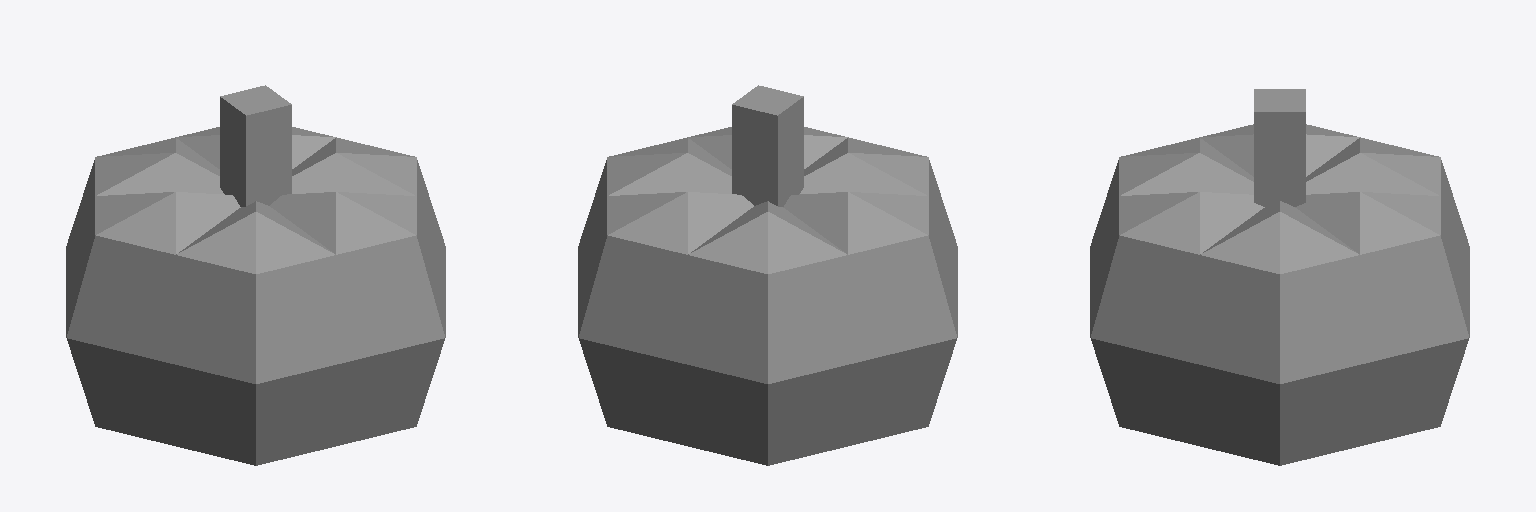
Rendered from pumpkin_03_02_a.obj.
3 renders of one model, left to right at view 1: azimuth 30°, elevation 25°; view 2: azimuth 150°, elevation 25°; view 3: azimuth 270°, elevation 25°, orthographic.
Parts seen in each view (by area): view 1: pumpkin_03_02_a; view 2: pumpkin_03_02_a; view 3: pumpkin_03_02_a.
Part boxes in pixels (left/top/right/bottom): pumpkin_03_02_a: left=66, top=85, right=445, bottom=465; pumpkin_03_02_a: left=578, top=85, right=957, bottom=465; pumpkin_03_02_a: left=1090, top=89, right=1469, bottom=465.
Bounding box in the file's own units: 1.38 × 1.08 × 1.19.